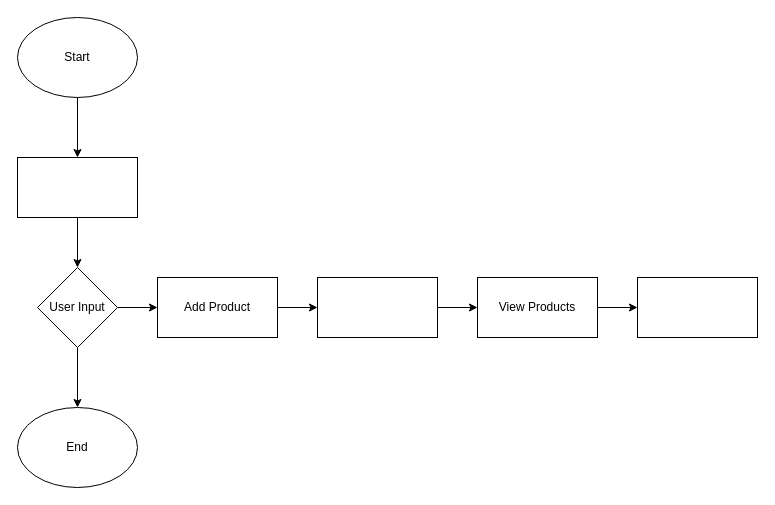
This 775x505 diagram has some shape labels left out. The centre of each missing label's shape, as x and y in pixels:
Display Main Menu: the point at 77,187
Exit: the point at 697,307
Update Stock: the point at 377,307
